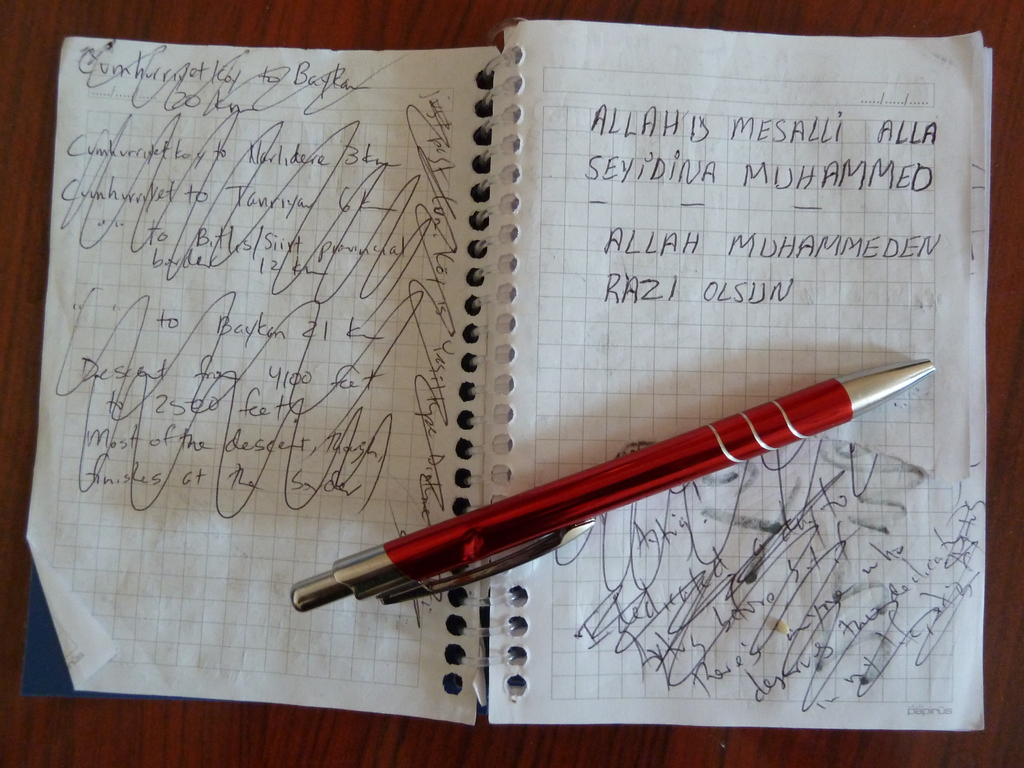Pen: (283, 361, 944, 634)
